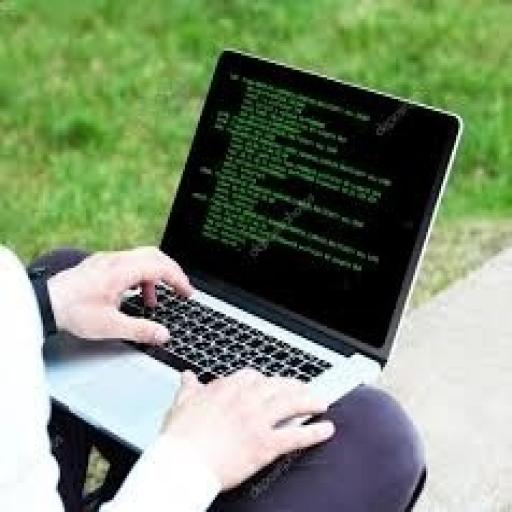using_laptop: (36, 44, 464, 492)
